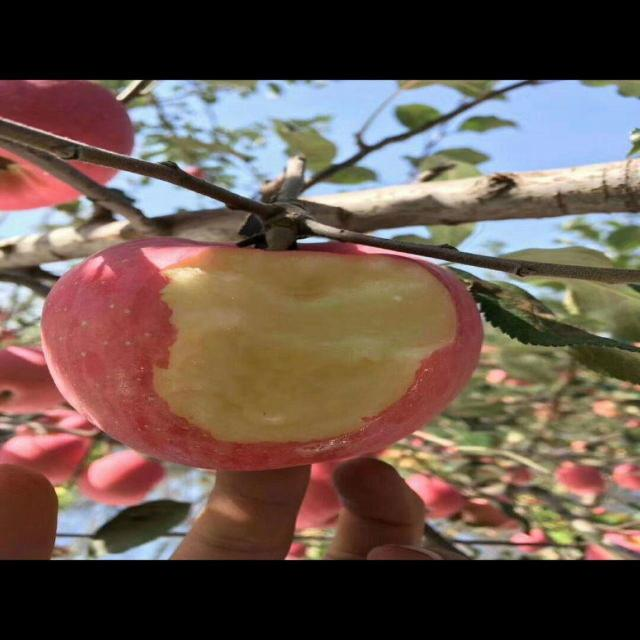Rotten: (16, 232, 496, 470)
